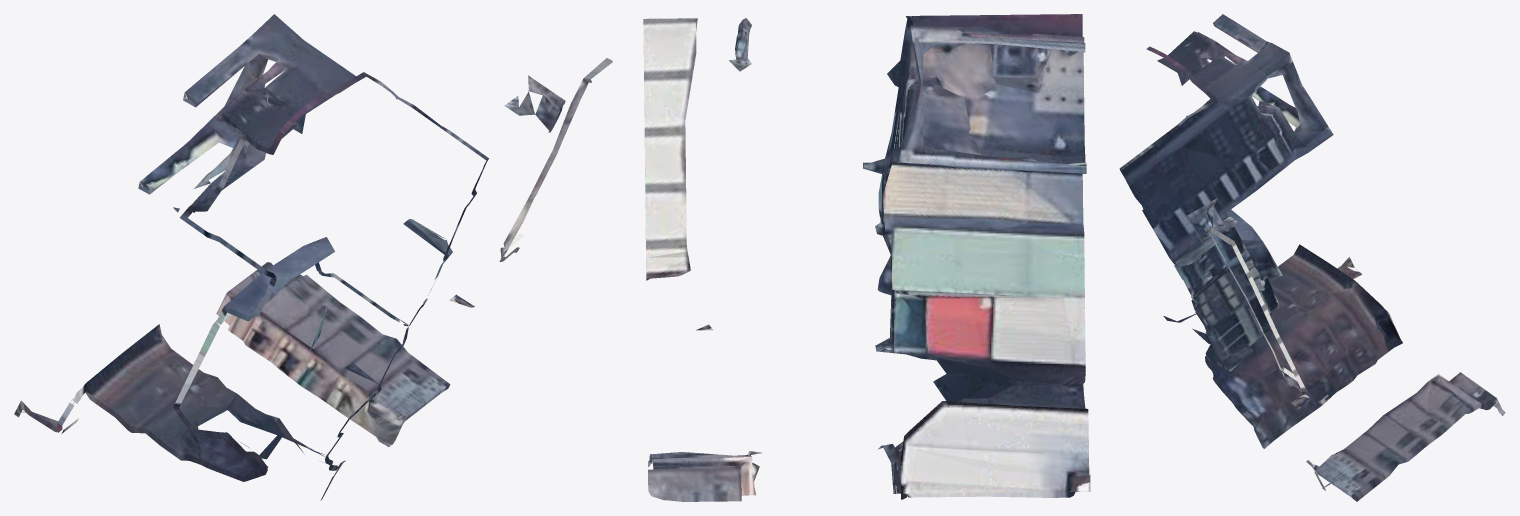
The picture shows the model from 3 angles, left to right: view 1: azimuth 30°, elevation 25°; view 2: azimuth 150°, elevation 25°; view 3: azimuth 270°, elevation 25°; orthographic projection. The views are drawn at different scales.
Bounding box in the file's own units: 48.49 × 42.93 × 39.08.
2 materials, 2 textured.
